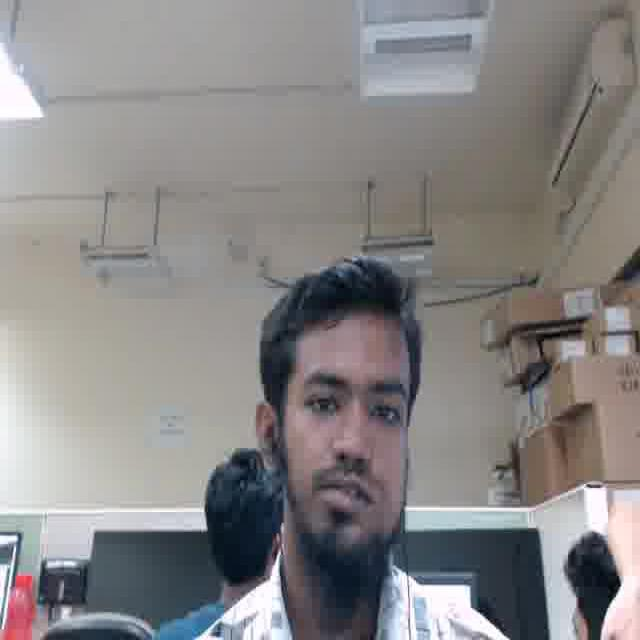Engaged: (282, 323, 409, 548)
